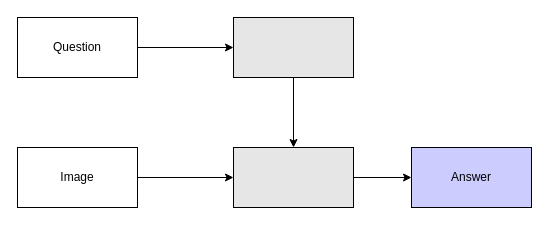
Image size: 549x225. Some labels were removed from this diagram. Here are the shapes that lost their labels. From the top down, the centre of each, then its label:
At point (293, 47): "Answers of Training set as labels".
At point (293, 177): "Images retrived by labels".
